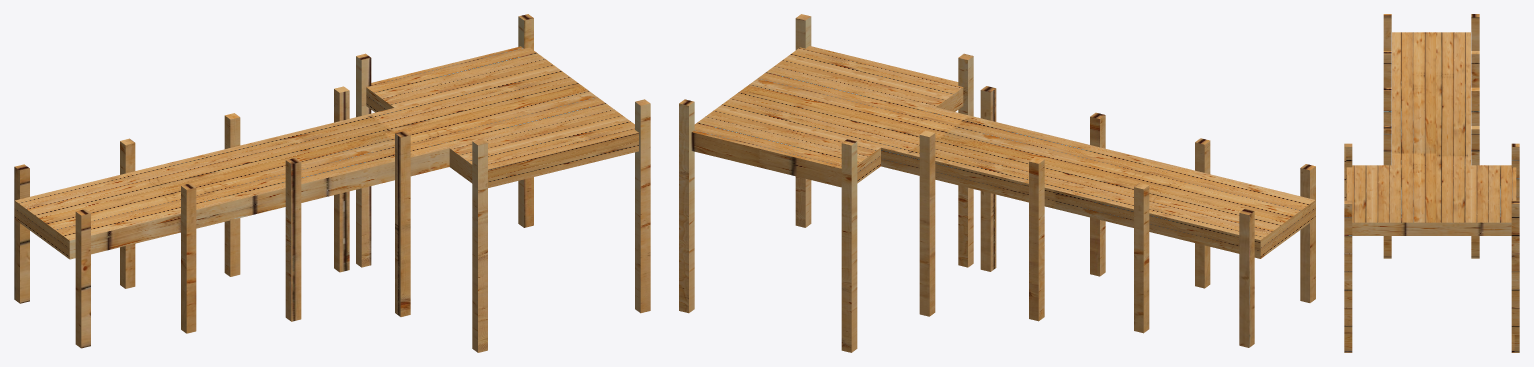
File: cabin.obj
3 views of the same model, side by side, from view 1: azimuth 30°, elevation 25°; view 2: azimuth 150°, elevation 25°; view 3: azimuth 270°, elevation 25° (orthographic). The views are drawn at different scales.
Parts seen in each view (by area): view 1: Cube.012_Cube.014; view 2: Cube.012_Cube.014; view 3: Cube.012_Cube.014.
Part boxes in pixels (box(x1,y1,x2,y2)): Cube.012_Cube.014: box(14, 14, 650, 352); Cube.012_Cube.014: box(679, 14, 1315, 352); Cube.012_Cube.014: box(1344, 14, 1519, 352).
Size of the model in its own units: 5.36 by 1.94 by 2.07.
1 material, 1 textured.
